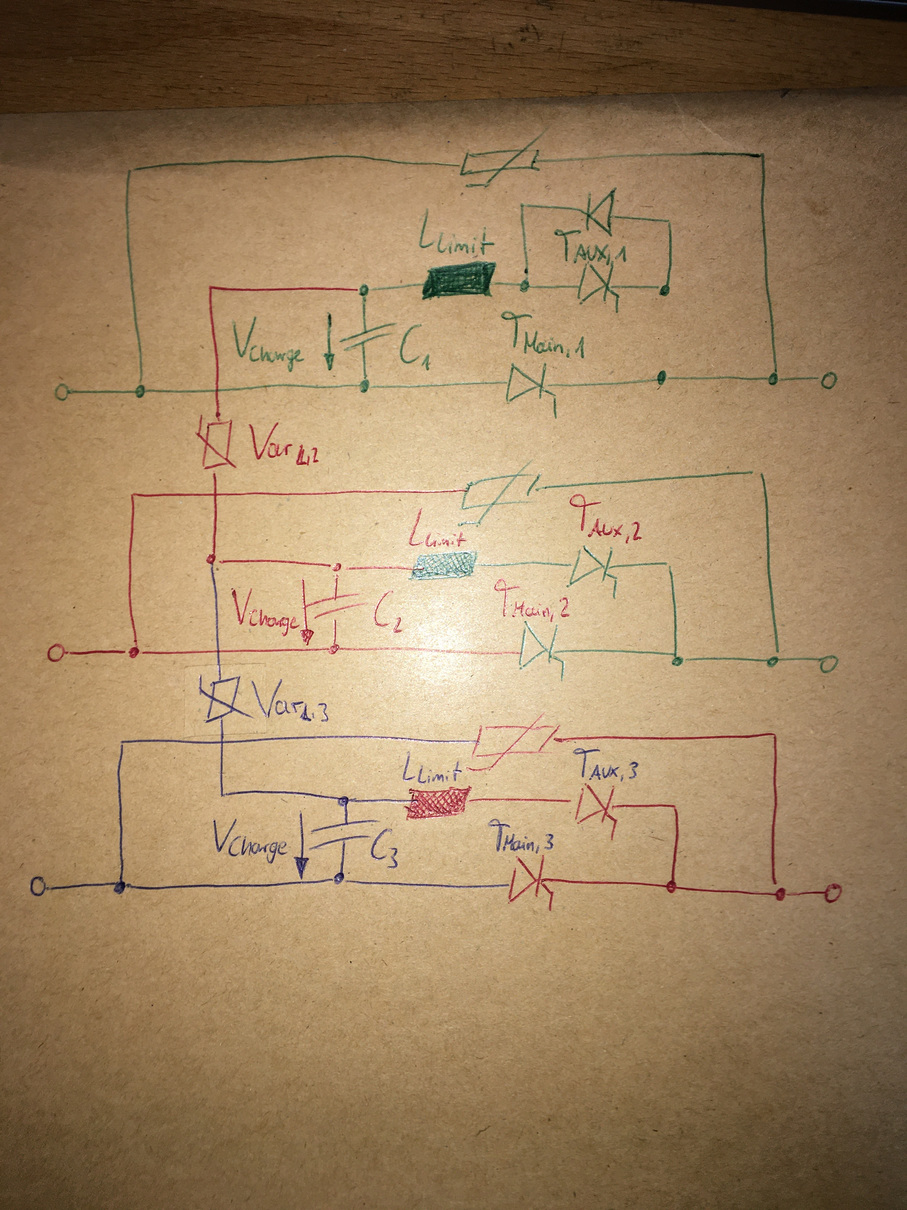capacitor.unpolarized: (309, 818, 378, 852), (307, 591, 367, 622), (338, 321, 395, 352)
crossover: (210, 384, 222, 395), (217, 737, 229, 748), (210, 490, 221, 500), (213, 646, 223, 656)
diode: (583, 186, 617, 239)
inductor: (418, 259, 500, 301), (403, 785, 474, 822), (408, 548, 479, 582)
junction: (770, 880, 790, 903), (668, 648, 687, 669), (765, 649, 784, 670), (204, 551, 225, 569), (327, 559, 348, 577), (124, 642, 145, 659), (330, 869, 350, 886), (132, 379, 148, 400), (766, 368, 782, 388), (655, 281, 673, 298), (112, 878, 129, 895), (356, 283, 374, 299), (358, 376, 373, 394), (518, 278, 533, 295), (749, 466, 767, 480), (664, 877, 678, 895), (327, 641, 342, 656), (336, 794, 352, 808), (661, 557, 676, 571), (768, 728, 781, 742), (669, 800, 682, 813), (117, 737, 131, 749), (125, 165, 138, 177), (128, 490, 140, 502), (664, 216, 677, 227), (206, 282, 218, 293), (757, 149, 769, 160), (218, 790, 231, 800), (517, 199, 528, 210)
terminal: (28, 874, 55, 898), (45, 642, 74, 663), (822, 881, 844, 905), (815, 370, 840, 391), (818, 654, 841, 675), (53, 382, 72, 402)
text: (499, 308, 589, 362), (229, 313, 307, 374), (414, 206, 497, 258), (567, 492, 645, 546), (250, 676, 331, 725), (228, 585, 301, 639), (209, 817, 289, 865), (246, 420, 322, 469), (492, 578, 572, 624), (552, 227, 629, 267), (486, 817, 557, 855), (406, 506, 468, 549), (571, 746, 640, 783), (401, 749, 465, 784), (397, 322, 435, 373), (371, 586, 406, 635), (369, 825, 402, 871)
thyristor: (504, 854, 556, 906), (516, 620, 567, 671), (569, 783, 621, 833), (503, 362, 561, 405), (567, 545, 620, 592), (575, 262, 621, 306)
varistor: (466, 711, 561, 772), (457, 462, 541, 527), (459, 129, 546, 188), (198, 671, 255, 723), (196, 414, 238, 473)
